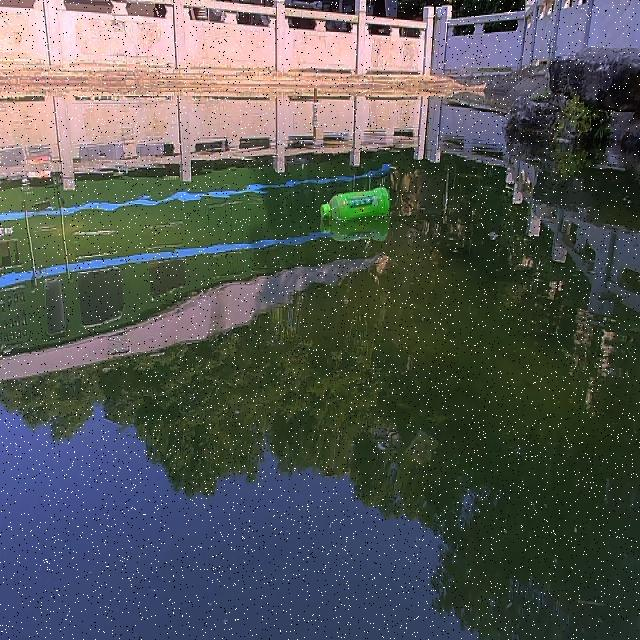bottle: (316, 182, 391, 222)
